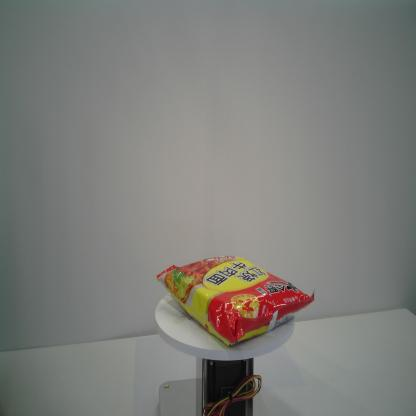Instant Noodles: (155, 254, 317, 350)
